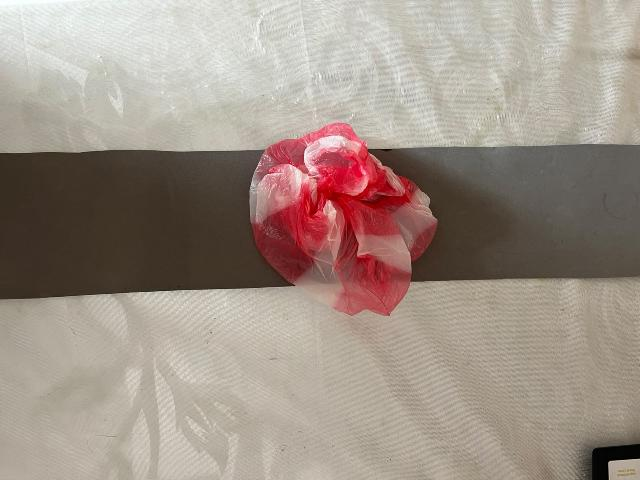LDPE: (210, 99, 518, 357)
